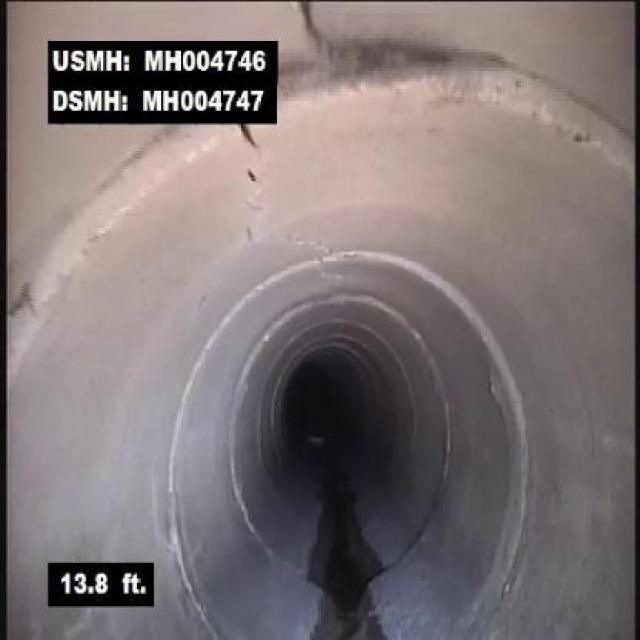Crack: (232, 126, 272, 252), (295, 5, 340, 63)
Joint offset: (347, 40, 636, 166), (14, 129, 203, 309)
